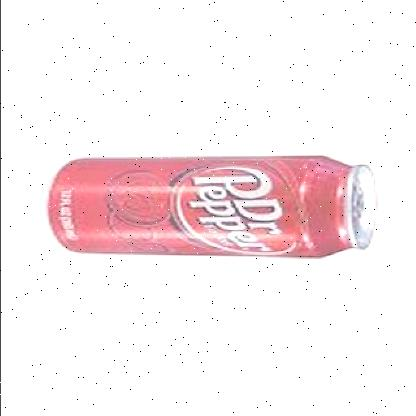Can: (41, 150, 378, 260)
